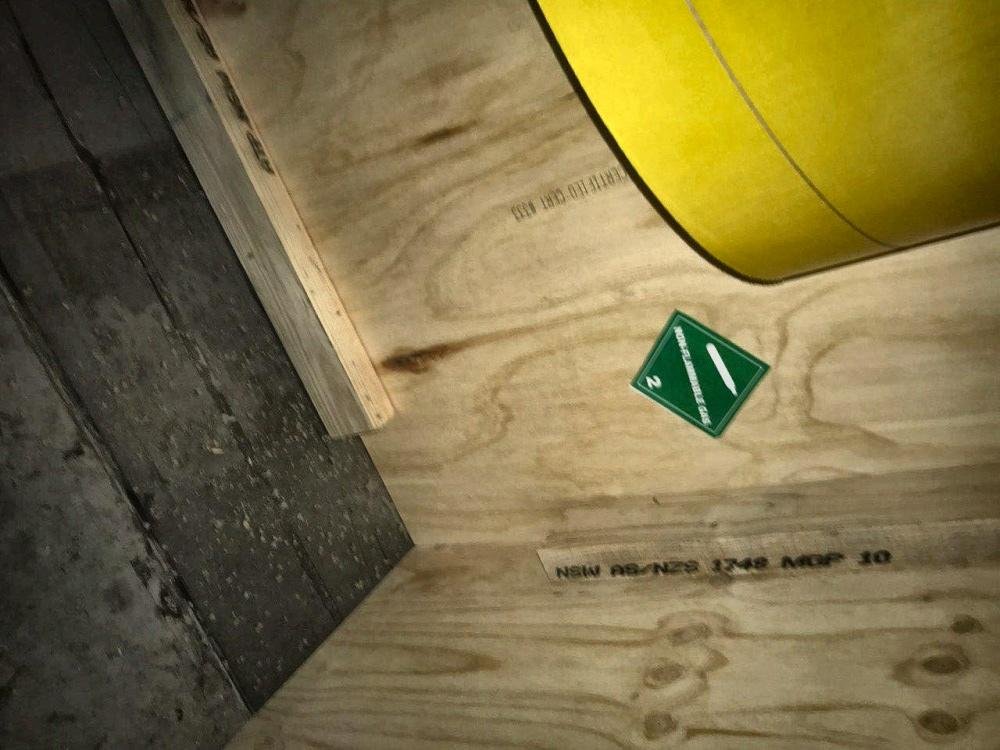non-flammable-gas: (624, 306, 777, 450)
